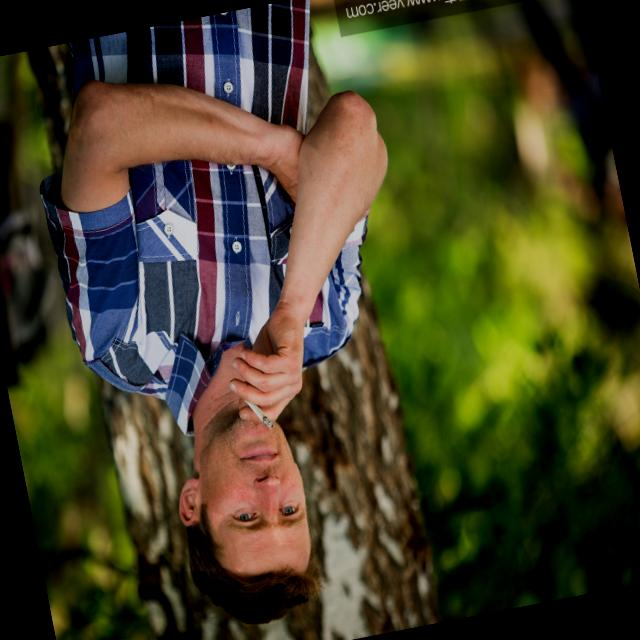smoke: (234, 379, 274, 438)
